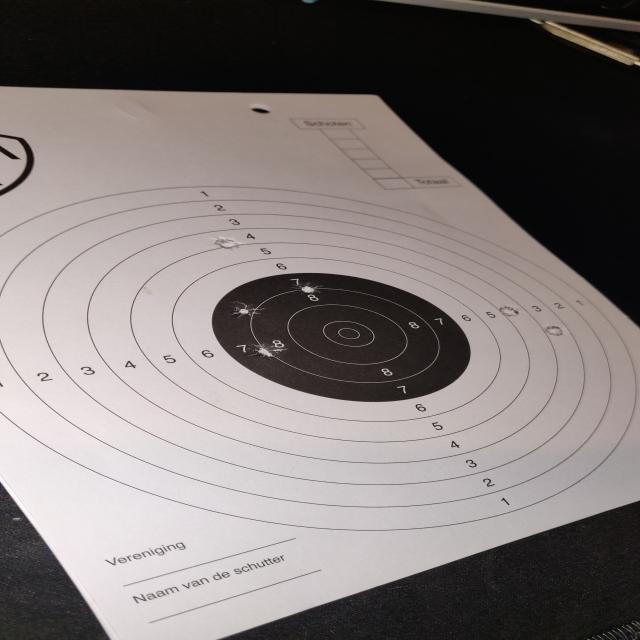4: (544, 325, 566, 336)
5: (500, 306, 520, 316)
6: (210, 236, 242, 252)
9: (227, 302, 264, 320), (250, 344, 284, 360), (292, 282, 324, 296)
Black Contour: (209, 272, 472, 402)
Target: (0, 182, 640, 534)
